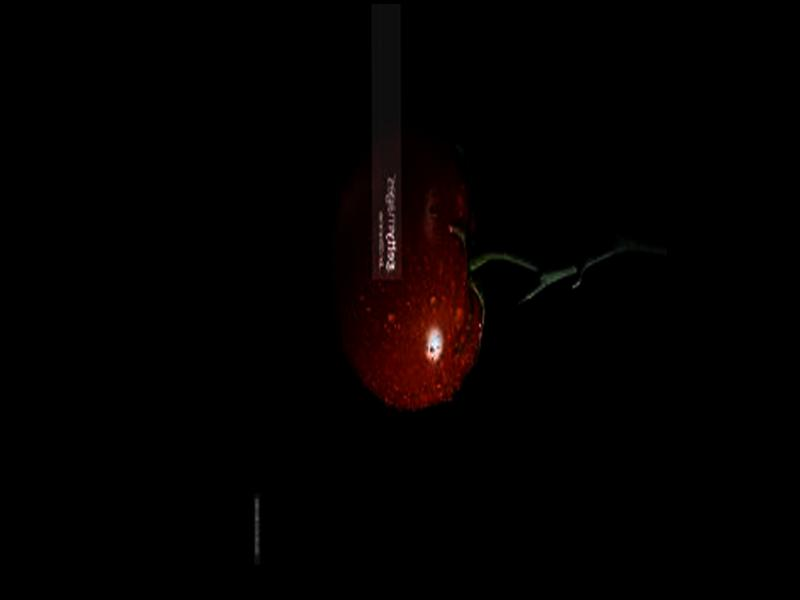Tomato: (334, 135, 480, 409)
